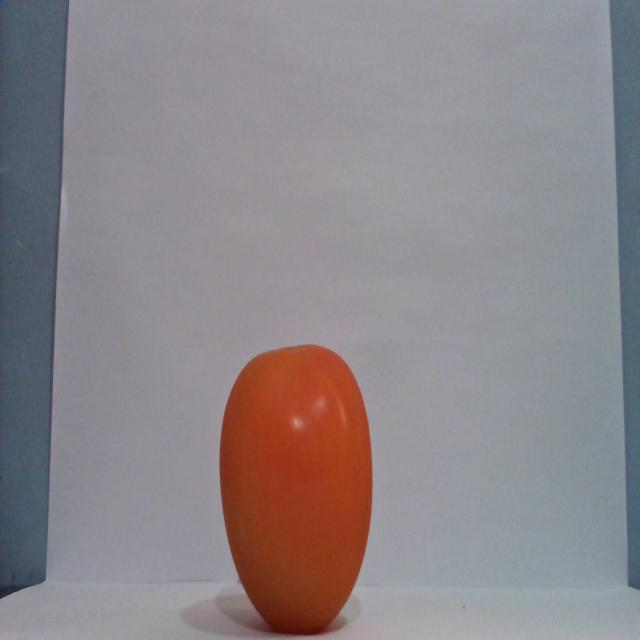Red: (217, 342, 374, 634)
